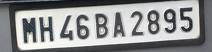2: (129, 8, 146, 36)
4: (59, 14, 75, 41)
5: (179, 6, 196, 35)
6: (76, 14, 91, 40)
8: (147, 9, 162, 35)
9: (163, 7, 178, 34)
A: (112, 11, 127, 40)
B: (94, 12, 110, 40)
H: (38, 15, 55, 44)
M: (18, 15, 37, 44)
